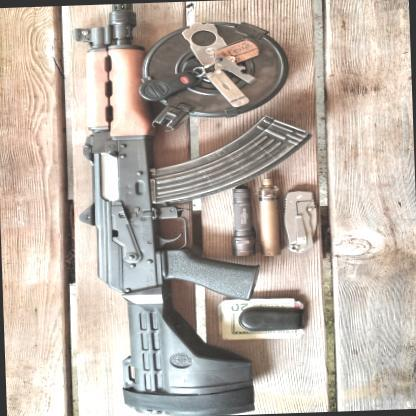rifle: (53, 0, 333, 416)
